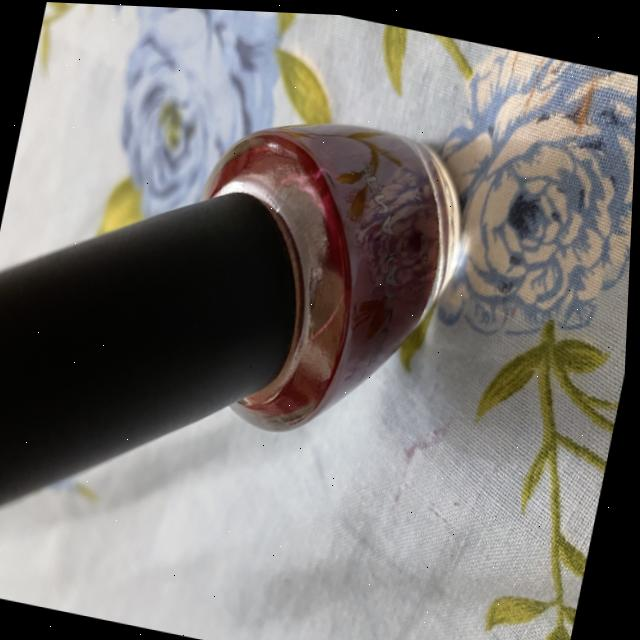nail polish: (0, 37, 506, 640)
